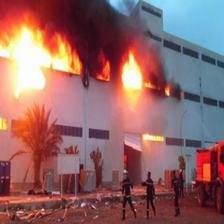fire: (1, 2, 88, 96), (95, 28, 178, 106)
